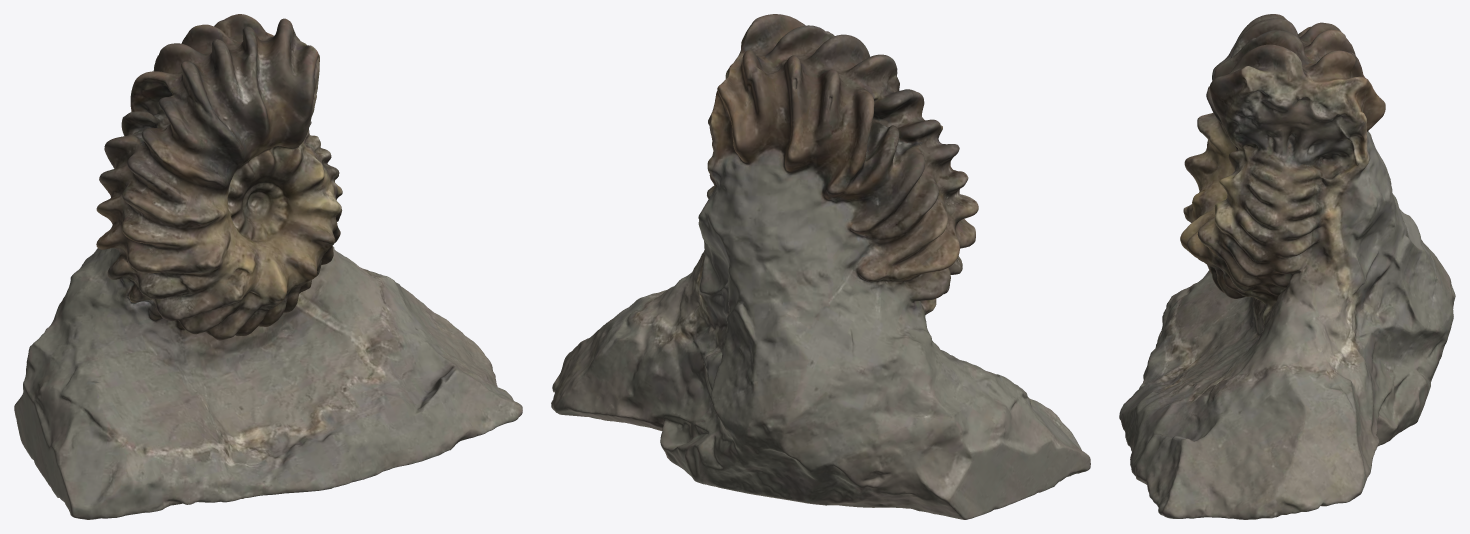
3 views of the same model, side by side, from view 1: azimuth 30°, elevation 25°; view 2: azimuth 150°, elevation 25°; view 3: azimuth 270°, elevation 25° (orthographic). The views are drawn at different scales.
Parts seen in each view (by area): view 1: Hoplites_rudis_Unknown-unwrapped-webmulti; view 2: Hoplites_rudis_Unknown-unwrapped-webmulti; view 3: Hoplites_rudis_Unknown-unwrapped-webmulti.
Boxes of the visible parts, x1=… form: Hoplites_rudis_Unknown-unwrapped-webmulti: x1=14, y1=14, x2=522, y2=519; Hoplites_rudis_Unknown-unwrapped-webmulti: x1=551, y1=14, x2=1090, y2=519; Hoplites_rudis_Unknown-unwrapped-webmulti: x1=1119, y1=14, x2=1455, y2=519.
Size of the model in its own units: 4915 by 4136 by 3218.
1 material, 1 textured.
